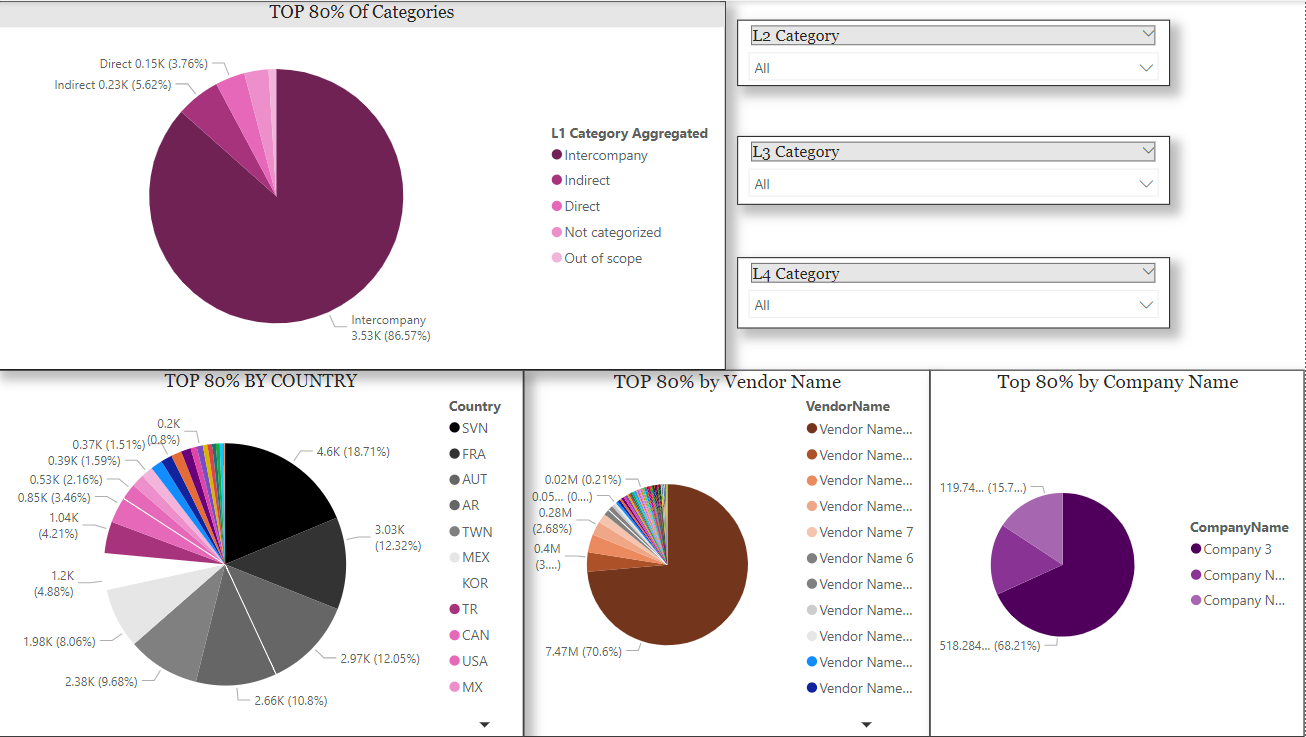

The dashboard page shown, as its layout file describes it:
{"tool":"powerbi","page":{"name":"Q2","canvas":[1280,720],"ordinal":1},"visuals":[{"type":"pieChart","title":"TOP 80% by Vendor Name","fields":{"Category":["Merge1.VendorName"],"Y":["Merge1.Average Amount by Item"]},"box":[515.9,360.6,397.3,359.4],"z":1},{"type":"pieChart","title":"TOP 80% BY COUNTRY","fields":{"Category":["Merge1.Country"],"Y":["Merge1.Amount 80th Percentile"]},"box":[0,360.6,515.9,359.4],"z":2},{"type":"pieChart","title":"Top 80% by Company Name","fields":{"Category":["Merge1.CompanyName"],"Y":["Merge1.Amount 80th Percentile"]},"box":[913.1,360.6,366.7,359.4],"z":3},{"type":"pieChart","title":"TOP 80% Of Categories","fields":{"Y":["Merge1.Amount 80th Percentile"],"Category":["Merge1.L1 Category Aggregated"]},"box":[0,0,713.9,360.6],"z":4},{"type":"slicer","fields":{"Values":["Merge1.L2 Category Aggregated"]},"box":[724.9,18.3,423,64.8],"z":5},{"type":"slicer","fields":{"Values":["Merge1.L3 Category Aggregated"]},"box":[724.9,132,423,67.2],"z":6},{"type":"slicer","fields":{"Values":["Merge1.L4 Category"]},"box":[724.9,250.6,423,69.7],"z":7}]}

Visuals, with their boxes in screenshot pixels (x1, y1, x2, y2), scaled from the page's 1280x720 canvas onto the 1306x737 screenshot:
"TOP 80% by Vendor Name" pieChart: BBox(526, 369, 932, 736)
"TOP 80% BY COUNTRY" pieChart: BBox(0, 369, 526, 736)
"Top 80% by Company Name" pieChart: BBox(932, 369, 1305, 736)
"TOP 80% Of Categories" pieChart: BBox(0, 0, 728, 369)
slicer - Merge1.L2 Category Aggregated: BBox(740, 19, 1171, 85)
slicer - Merge1.L3 Category Aggregated: BBox(740, 135, 1171, 204)
slicer - Merge1.L4 Category: BBox(740, 257, 1171, 328)
